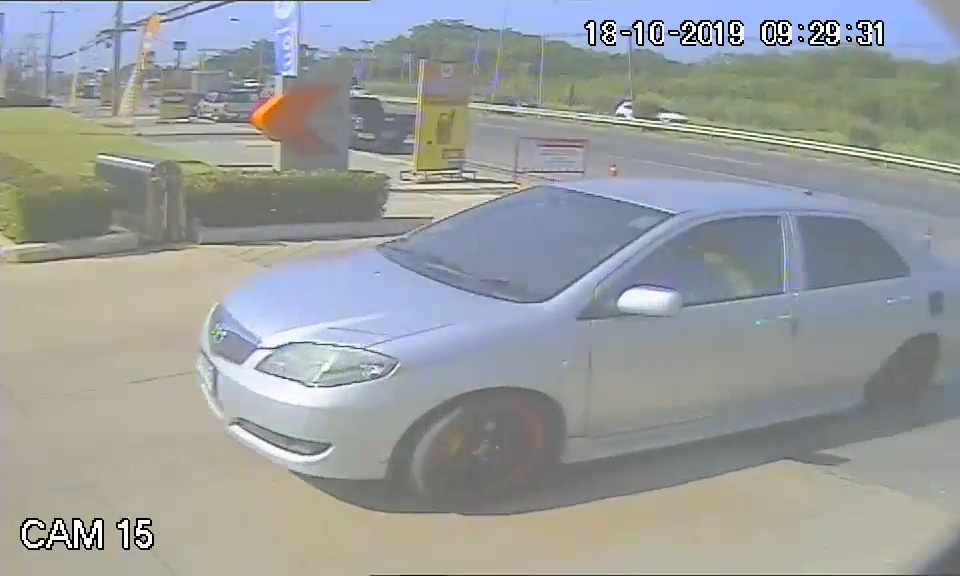sedan: (195, 170, 952, 506)
